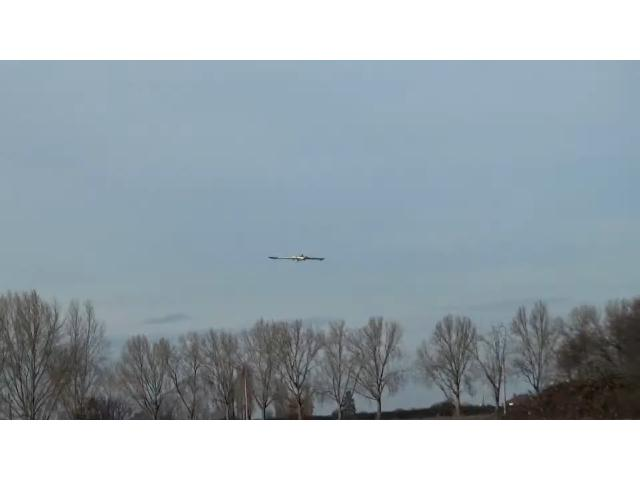Anti-Drone: (270, 256, 324, 262)
